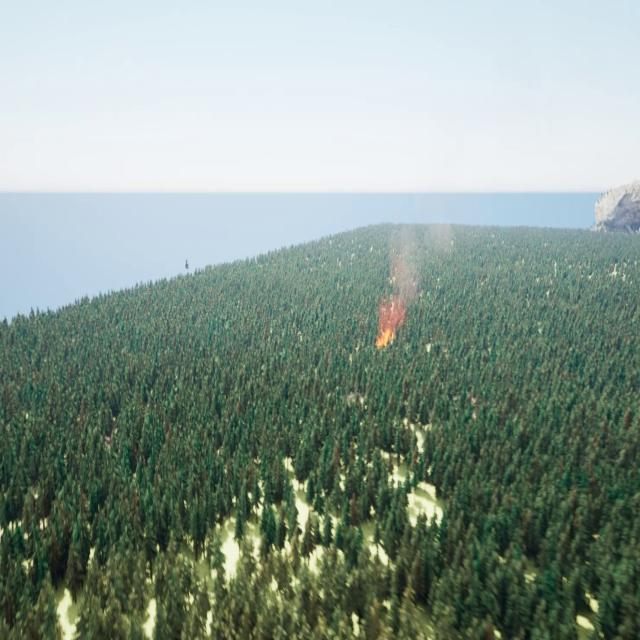fire: (375, 329, 393, 351)
smoke: (378, 218, 454, 331)
